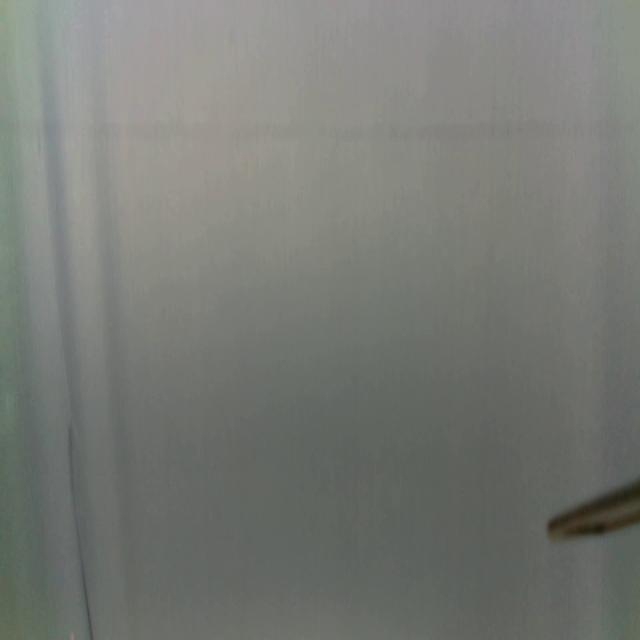color bleeding: (0, 110, 639, 147)
crease: (66, 420, 93, 640)
